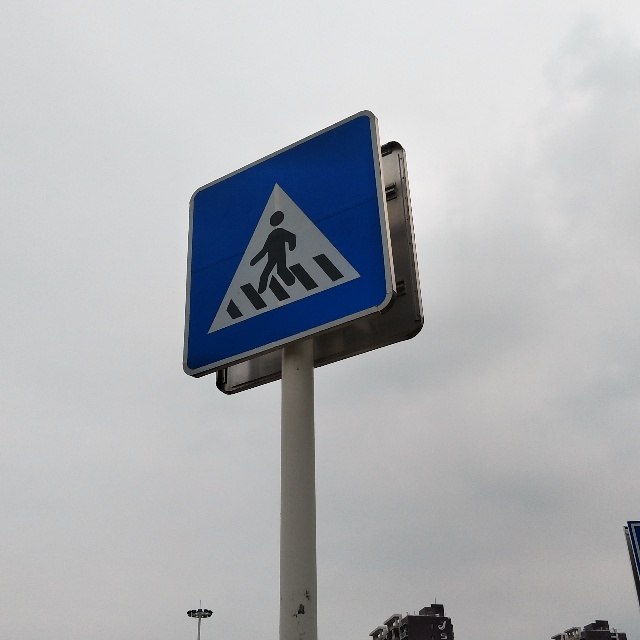crosswalk: (181, 182, 379, 328)
